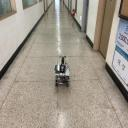cart: (54, 67, 70, 87)
